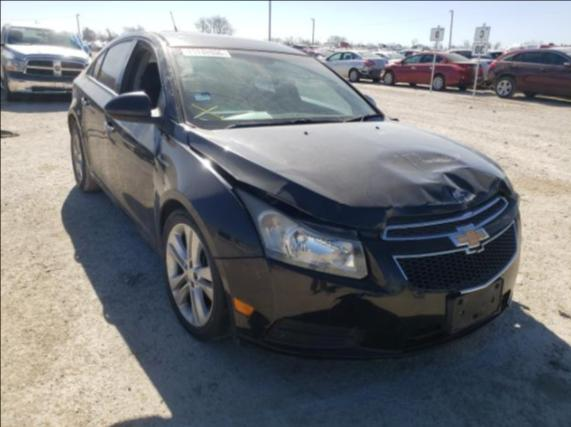Broken part: (186, 137, 517, 242), (392, 217, 519, 296)
Dent: (372, 147, 511, 213)
Missing part: (117, 39, 162, 109), (452, 279, 500, 332)
Scratch: (451, 166, 510, 197), (392, 154, 460, 167), (449, 187, 480, 207)
